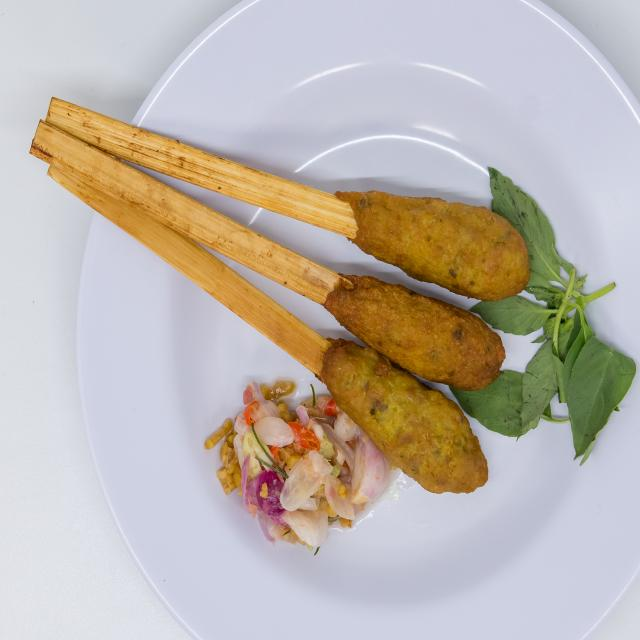Sate-Lilit: (108, 80, 626, 560)
